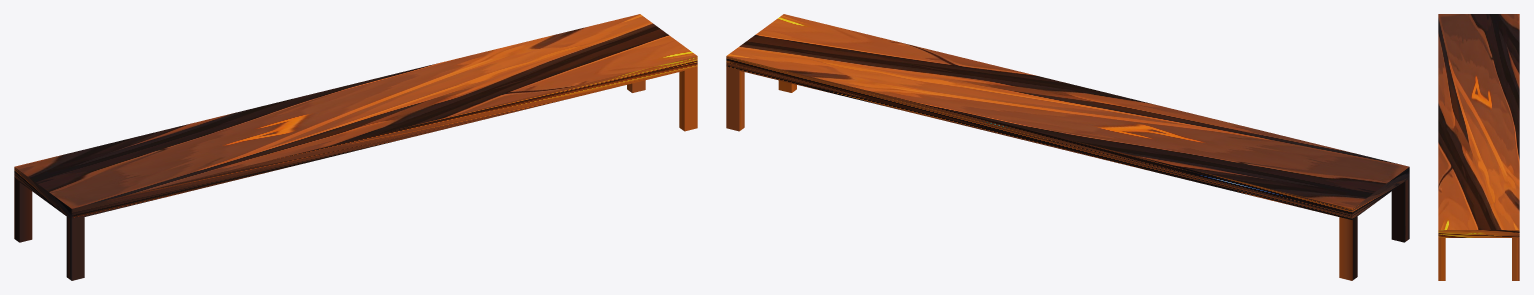
The model's file is Prop_Laboratorio_Mesa.fbx.
3 views of the same model, side by side, from view 1: azimuth 30°, elevation 25°; view 2: azimuth 150°, elevation 25°; view 3: azimuth 270°, elevation 25° (orthographic). The views are drawn at different scales.
Parts seen in each view (by area): view 1: Cube; view 2: Cube; view 3: Cube.
Part boxes in pixels (x1,y1,x2,y2): Cube: (14, 14, 697, 280); Cube: (726, 14, 1409, 280); Cube: (1438, 14, 1519, 280).
Bounding box in the file's own units: 16758 × 1844 × 2672.
